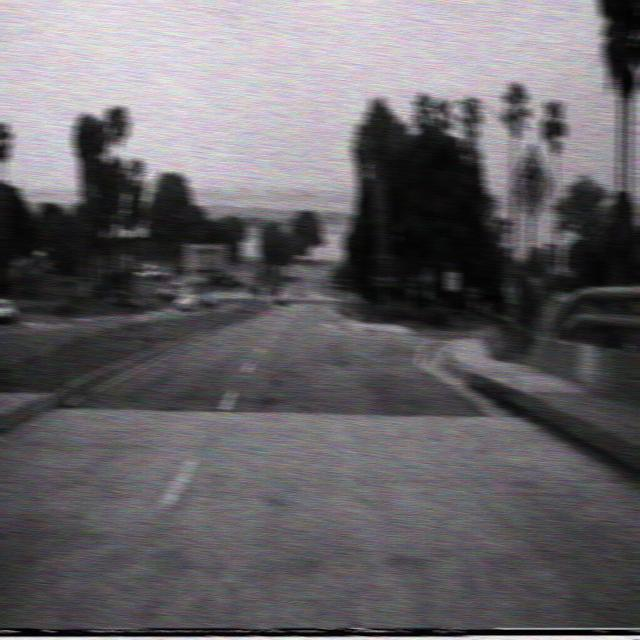pedestrianCrossing: (511, 144, 554, 220)
